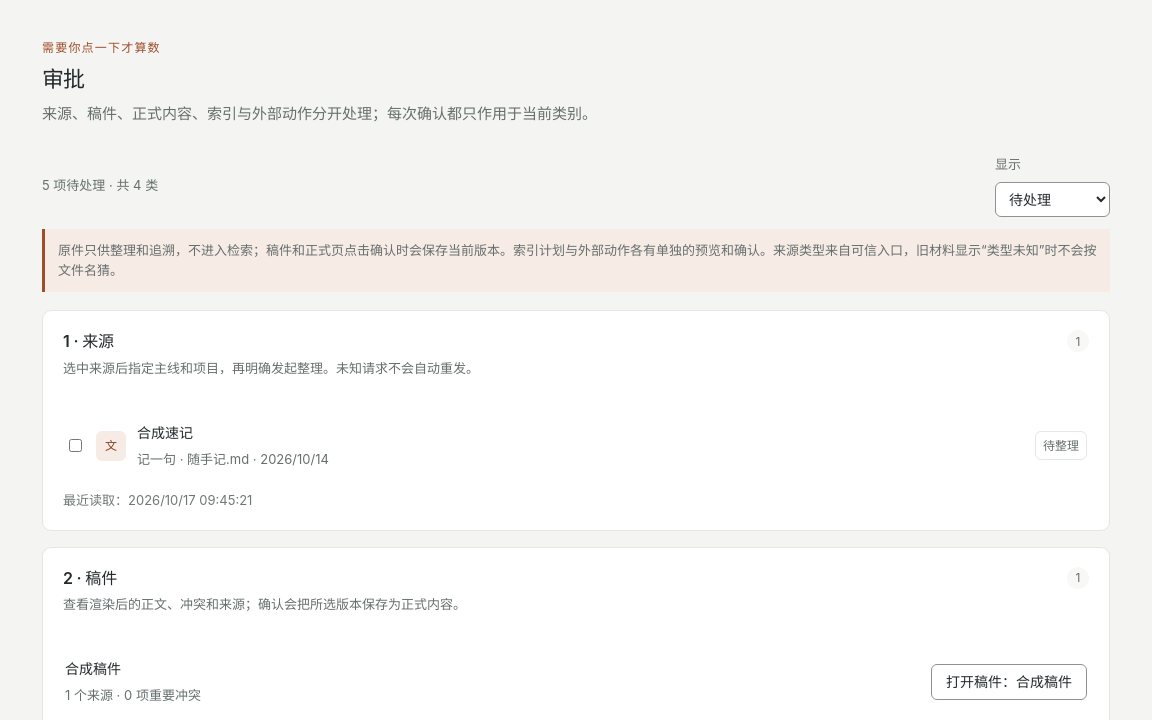
Test: opens one draft in a focused reading view and returns to its compact list
Expected: the text "合成稿件" is shown, top-left (65, 660), bottom-right (121, 677)
Click the button "打开稿件：合成稿件" at (1009, 682), box top-left (931, 664), bottom-right (1087, 700)
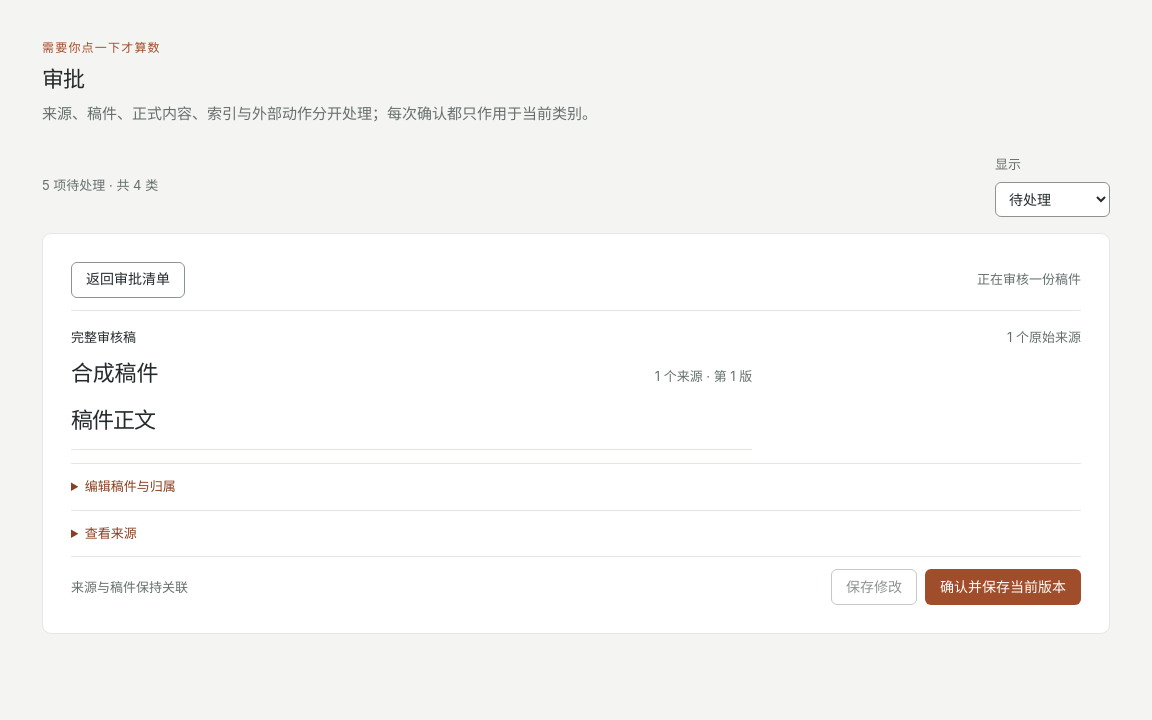
Expected: the heading "稿件正文" is shown, top-left (71, 407), bottom-right (155, 433)
Click the button "返回审批清单" at (128, 280), box top-left (71, 262), bottom-right (185, 298)
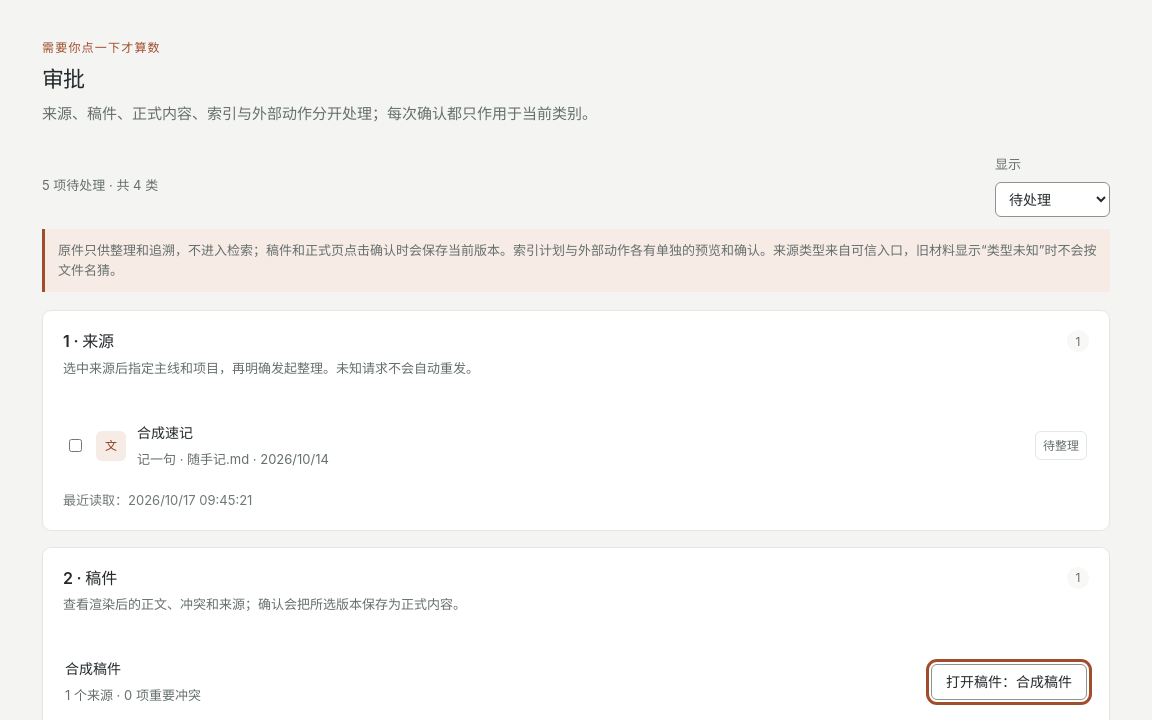
Expected: the text "合成稿件" is shown, top-left (65, 660), bottom-right (121, 677)
